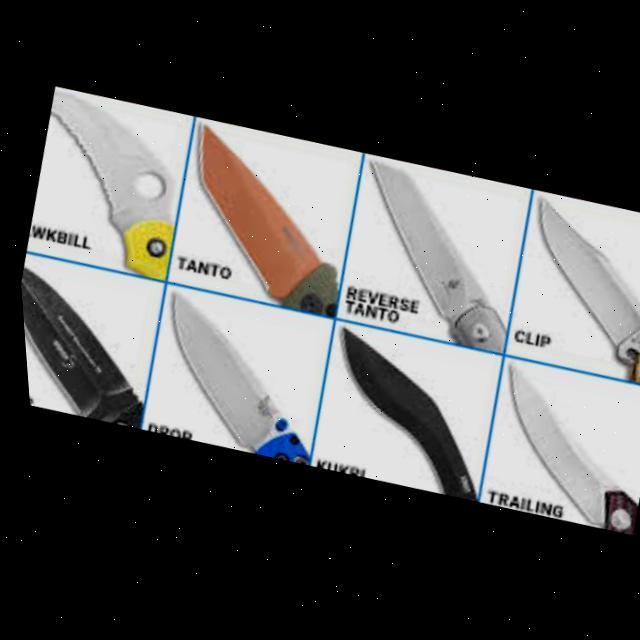Knife: (157, 118, 368, 322), (326, 157, 534, 359), (299, 324, 503, 507), (133, 287, 335, 470), (13, 87, 200, 284), (467, 362, 640, 542), (491, 194, 640, 394), (15, 257, 164, 431)
